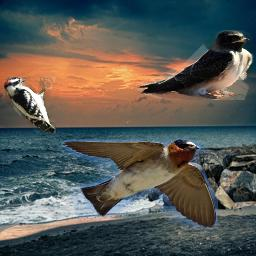Swallow: (61, 139, 218, 229), (136, 30, 254, 100)
Woodpecker: (4, 77, 56, 133)
